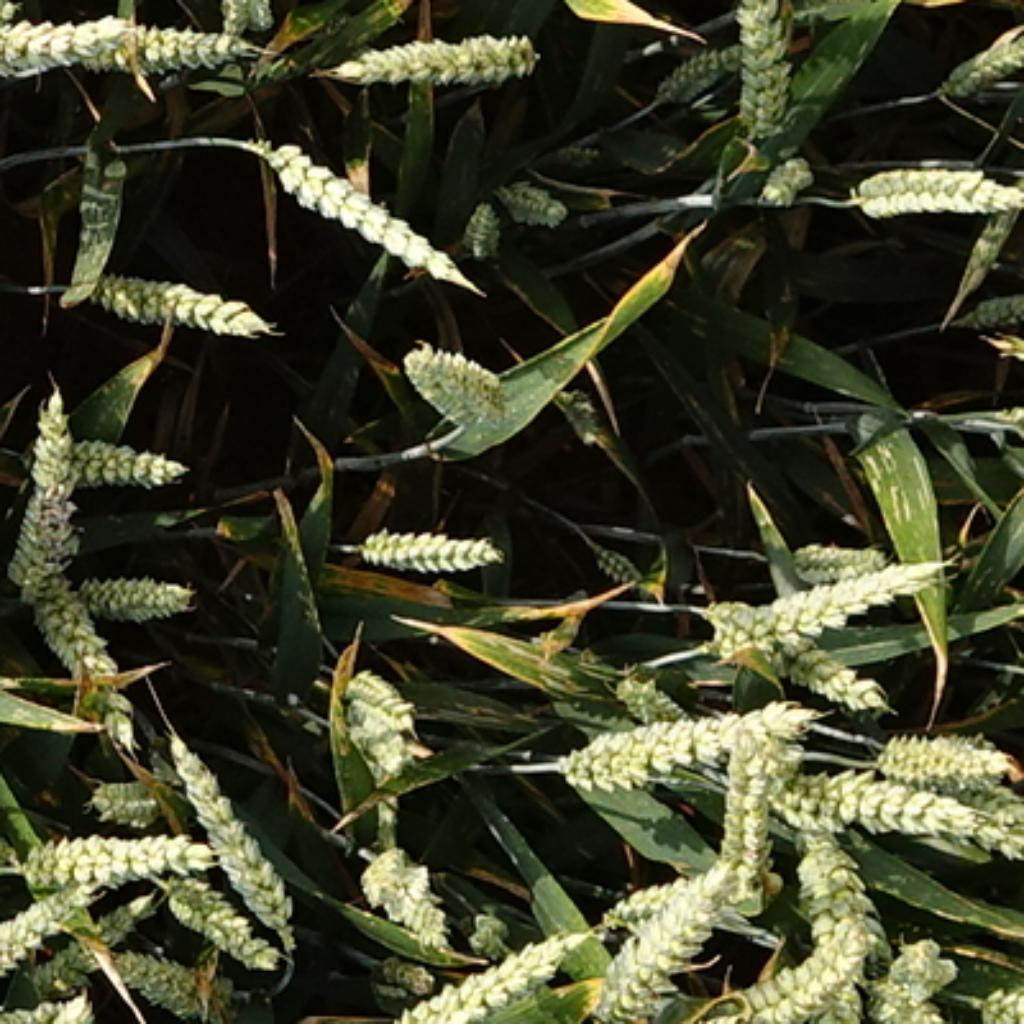0-0: (258, 133, 481, 309), (701, 555, 954, 660), (558, 701, 826, 798), (174, 729, 302, 931), (691, 591, 906, 711), (10, 558, 140, 755), (578, 868, 729, 1024), (693, 919, 872, 1024), (389, 931, 591, 1024), (778, 829, 893, 985), (74, 250, 276, 337), (5, 384, 84, 586), (785, 762, 1011, 832), (332, 23, 542, 97), (64, 25, 299, 87), (28, 890, 161, 998), (161, 872, 286, 975), (706, 724, 788, 880), (23, 826, 222, 890), (714, 0, 801, 143), (0, 7, 143, 92), (844, 156, 1024, 222), (396, 327, 512, 427), (358, 837, 458, 947), (0, 875, 92, 983), (343, 512, 512, 570), (111, 945, 231, 1024), (880, 719, 1024, 783), (591, 872, 716, 931), (335, 660, 442, 727), (931, 17, 1024, 94), (66, 442, 212, 491), (876, 939, 960, 1024), (69, 560, 194, 616), (914, 789, 1024, 852), (340, 714, 424, 793), (655, 23, 742, 99), (773, 535, 906, 581), (84, 770, 171, 826), (611, 660, 696, 716), (486, 168, 568, 222), (542, 373, 606, 442), (363, 944, 435, 998), (960, 286, 1024, 345), (583, 537, 652, 591), (750, 151, 814, 209), (0, 990, 92, 1024), (460, 189, 504, 253), (460, 906, 509, 962)
